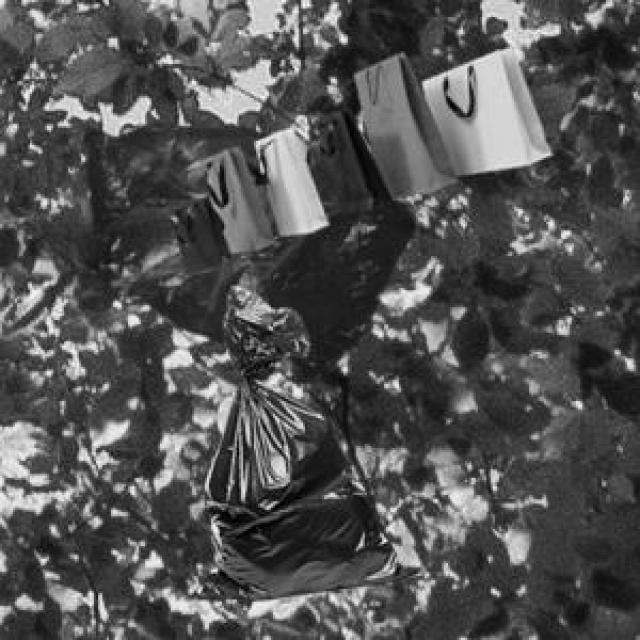miscellaneous trash: (186, 282, 416, 595)
paper: (166, 43, 548, 269)
